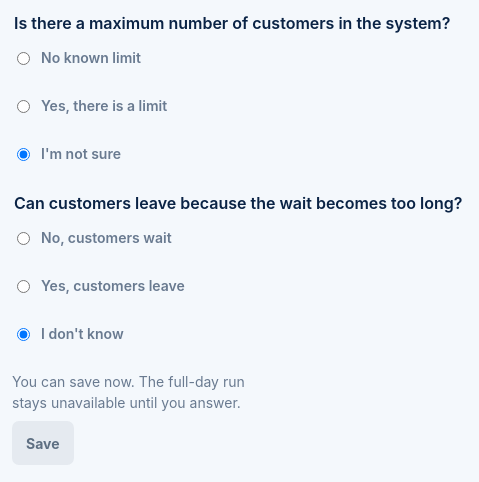
Test: Simulation model choices › merges into fresh Setup and refreshes compatibility and stale evidence
The image size is (479, 482).
Click the radio button labelled "No known limit" at coordinates (24, 58), box [17,52,30,65]
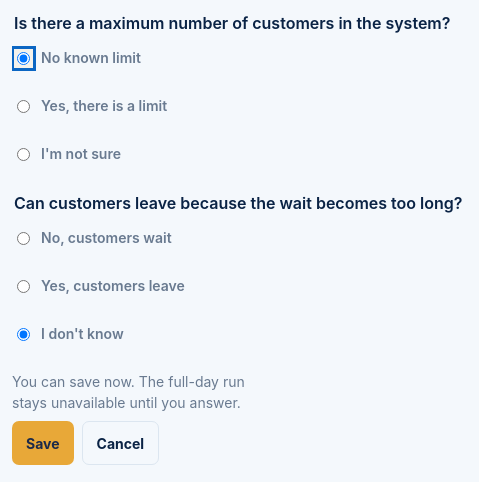
Click the radio button labelled "No, customers wait" at coordinates (24, 238), box [17,232,30,245]
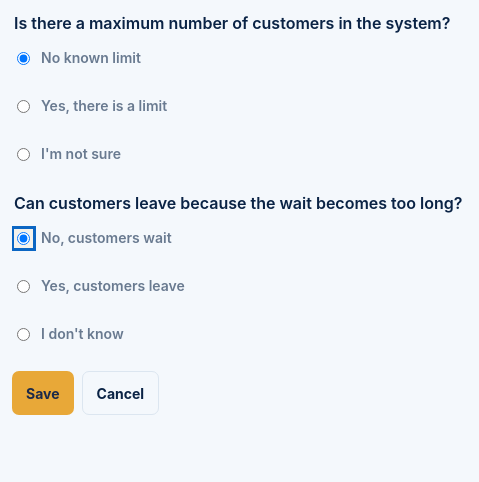
Click the button "Save" at coordinates (43, 393), box [12,371,74,415]
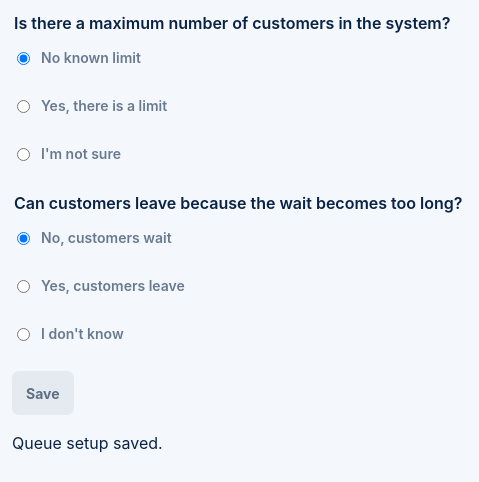
Check: the text "Queue setup saved." is shown, box [12,433,163,453]
